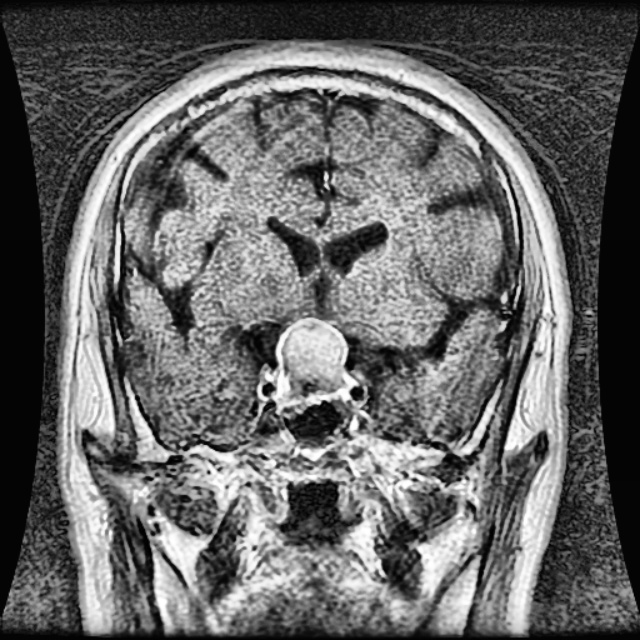Pituitary: (278, 323, 349, 407)
